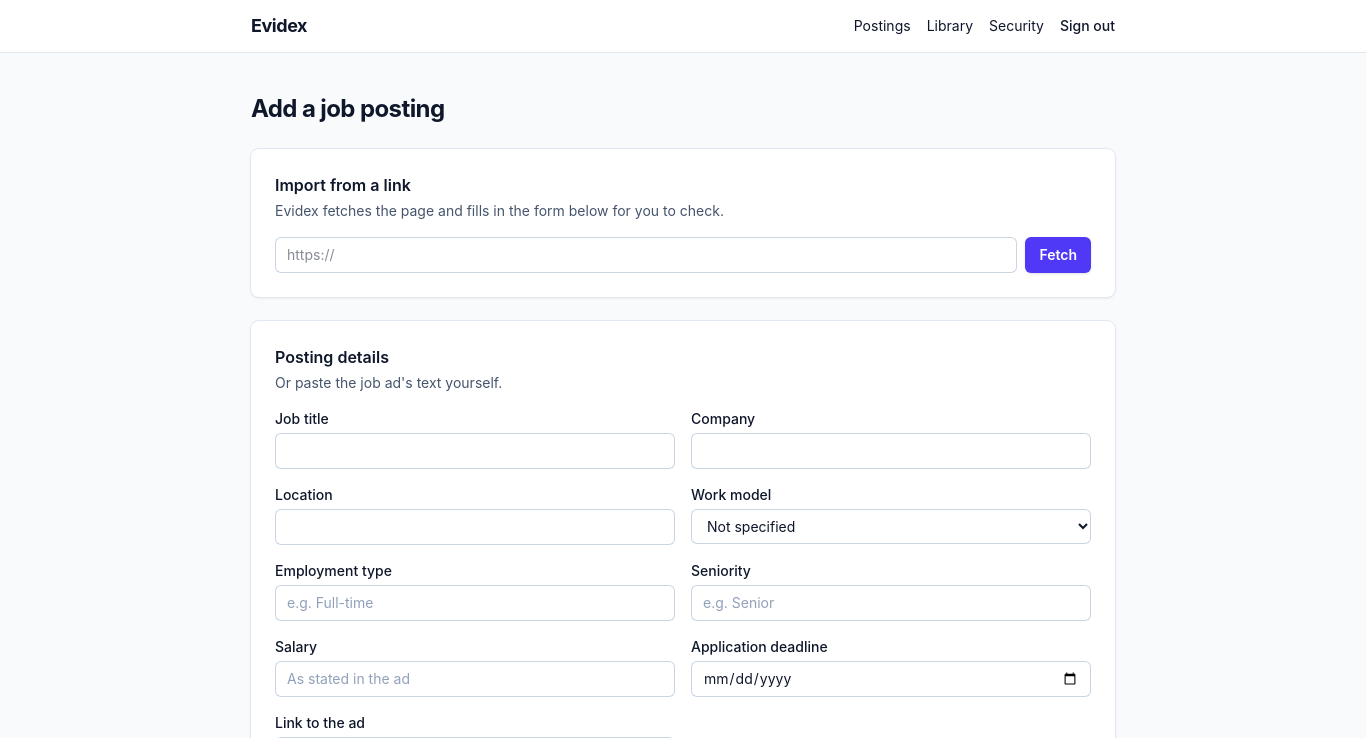
it: Job postings › suggests pasting the text when a link can't be imported
This screenshot has width=1366, height=738.
Step 1. Type "https://www.linkedin.com/jobs/view/1" into the field named "Link to the job ad" → (646, 255), box [275,237,1017,273]
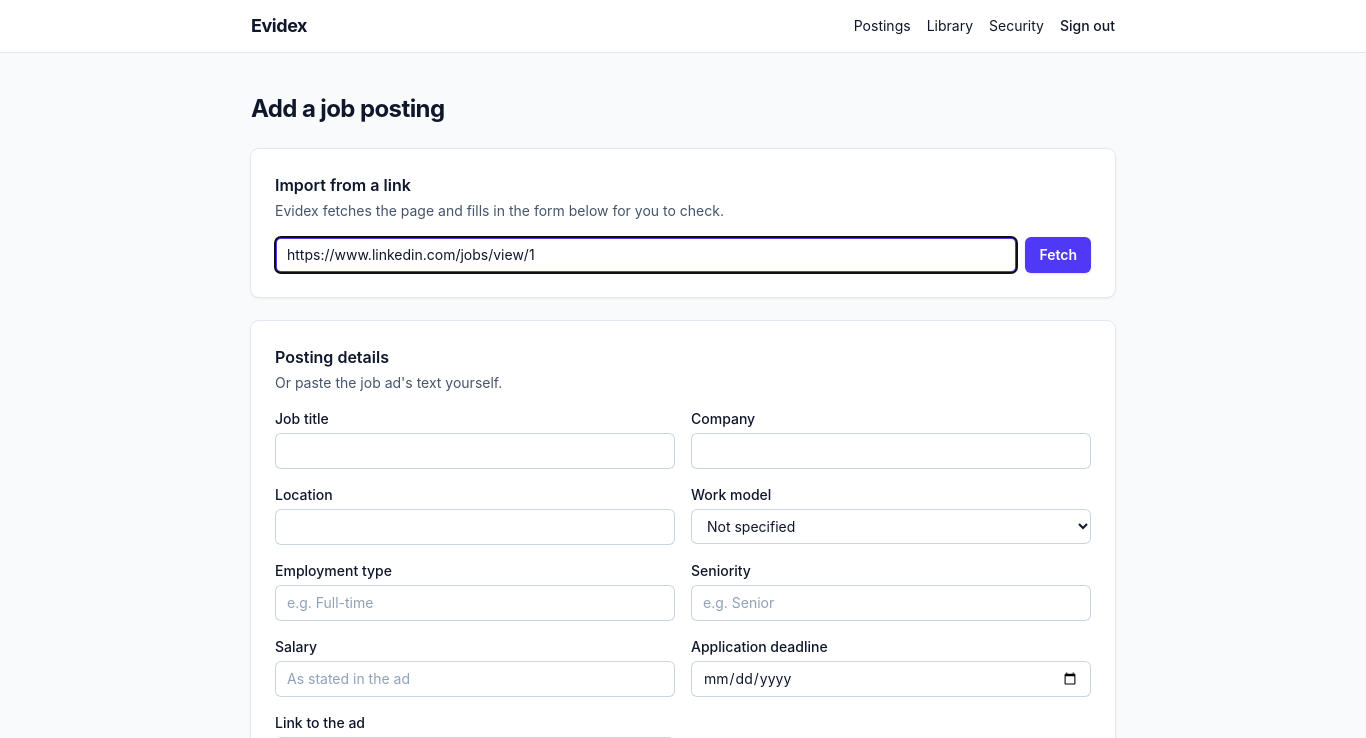
Step 2. Click the button "Fetch" → (1058, 255), box [1025,237,1091,273]
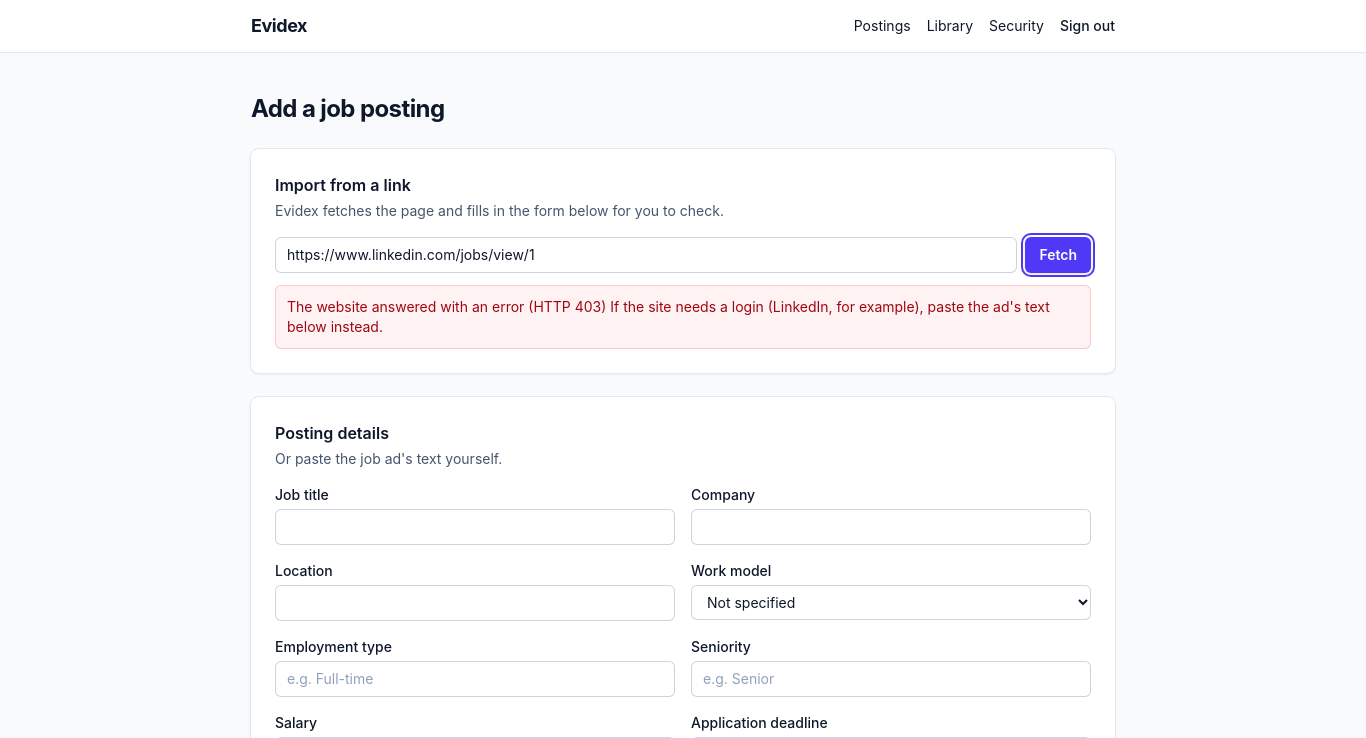
Expected: the message shows "HTTP 403", [287,298,606,315]
Expected: the message shows "paste the ad", [287,298,1050,335]
